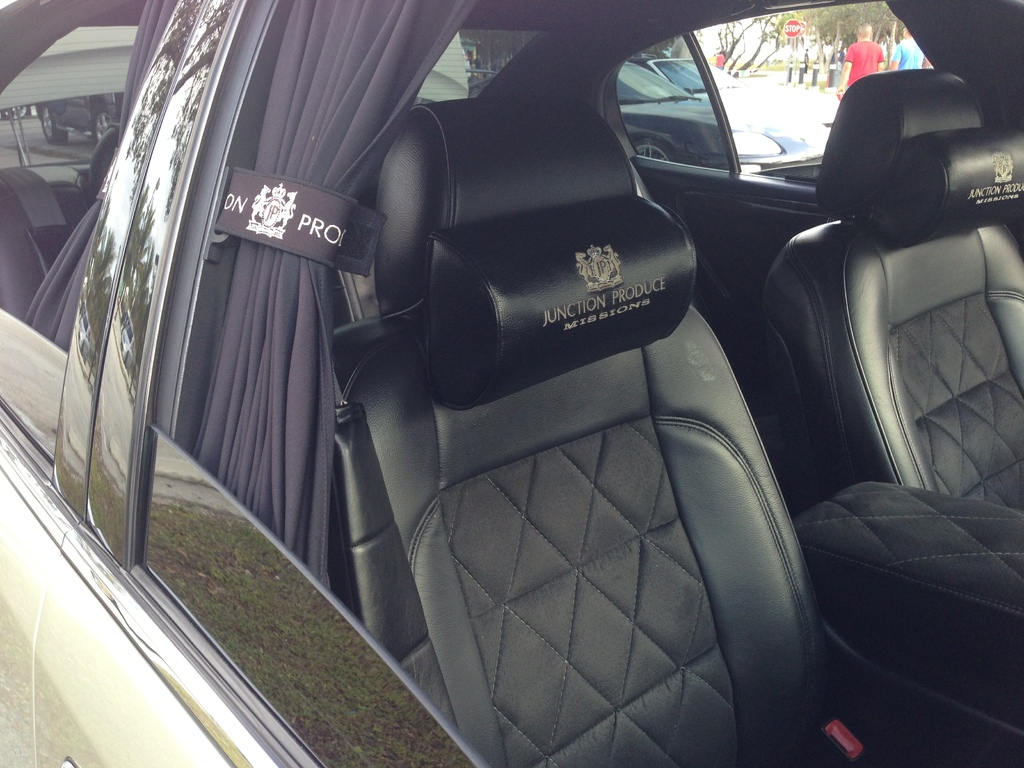Car: (0, 0, 1023, 767), (611, 58, 816, 186), (648, 59, 838, 129), (37, 87, 128, 142)
